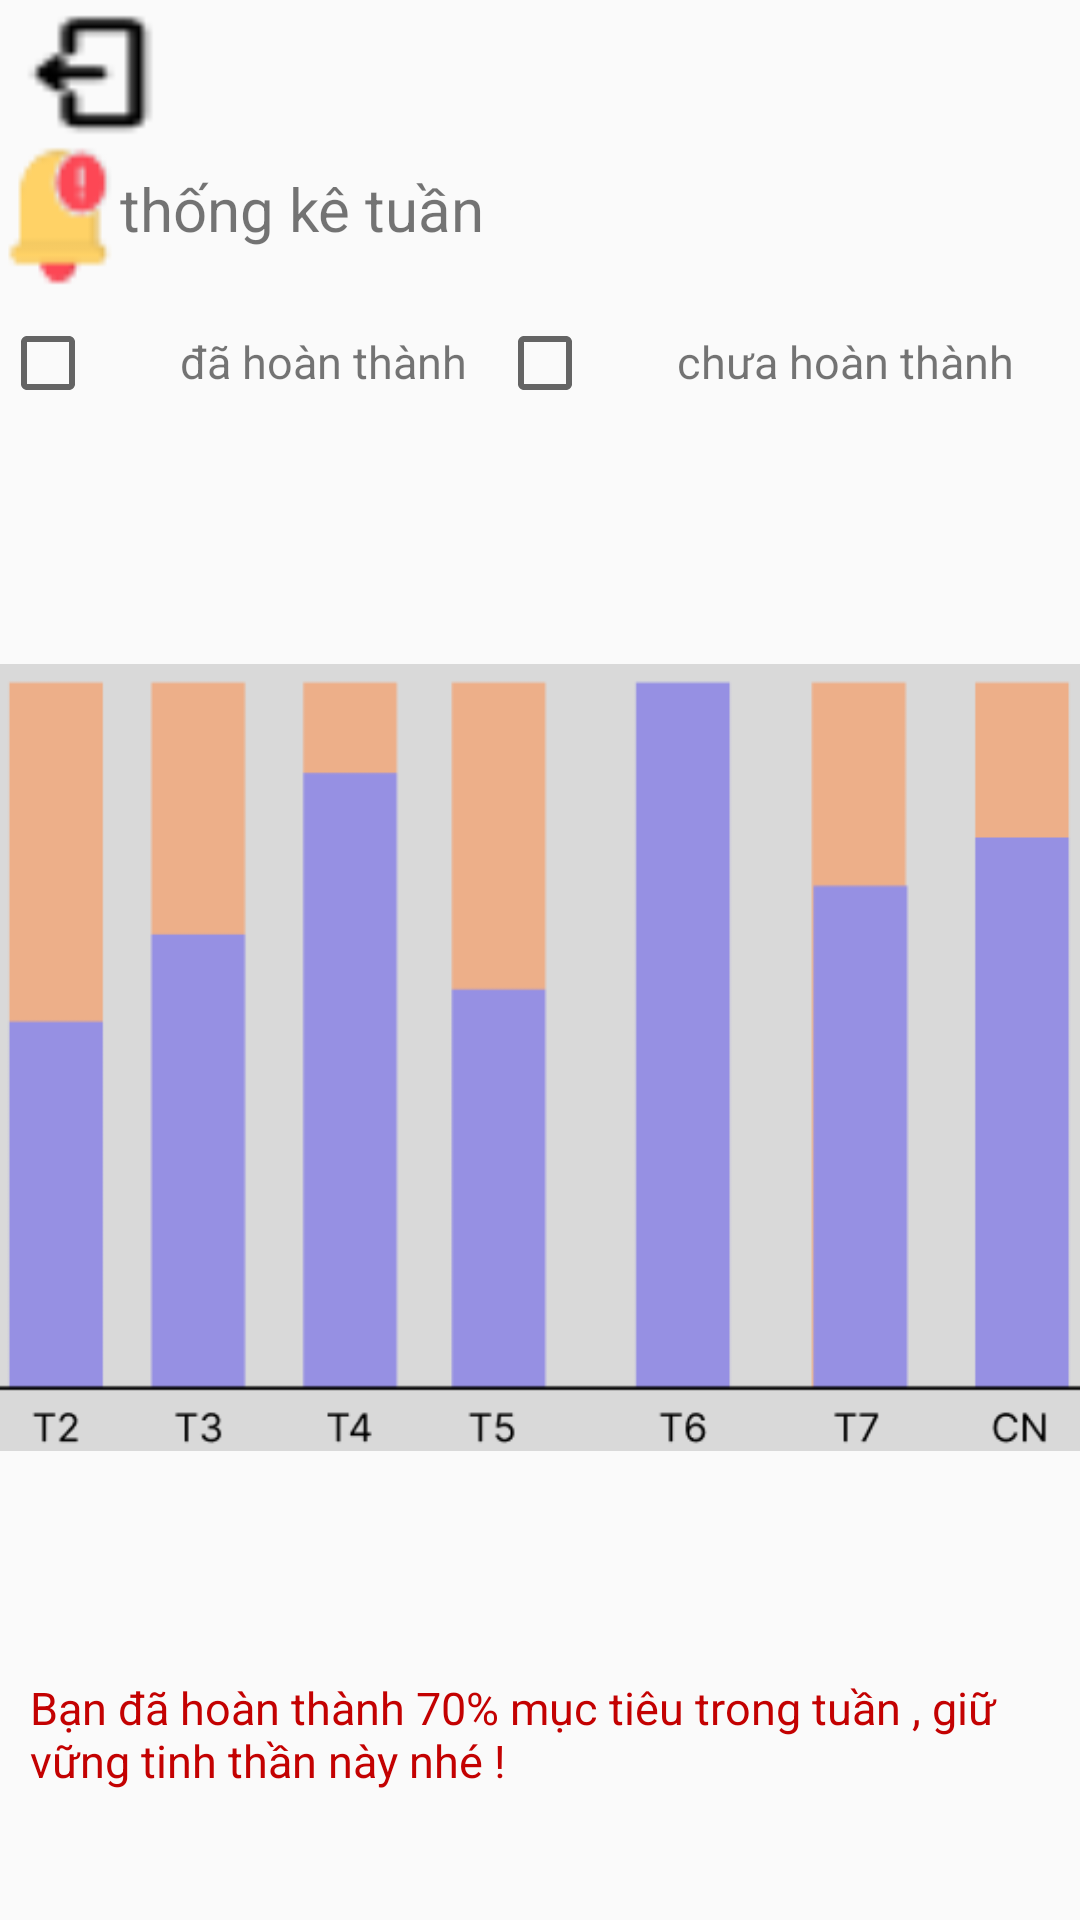

Icons on this 1080*1920 Android screen, each with the point to tap as [x,y]:
exit: [91,74]
notifications: [58,216]
